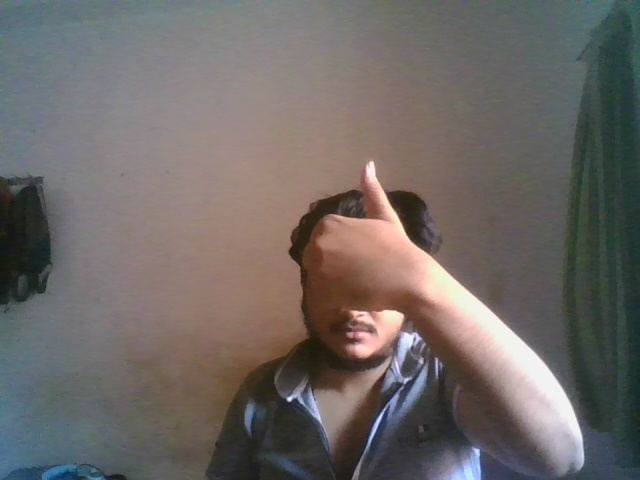ThumbsUp: (299, 158, 407, 319)
